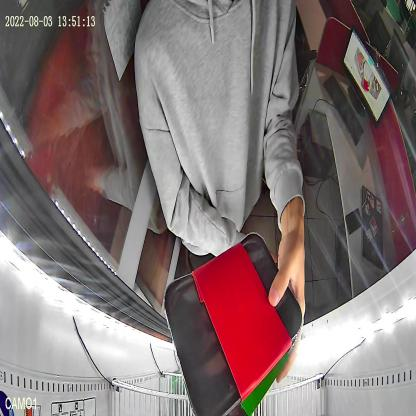green: (226, 336, 299, 416)
red: (163, 232, 303, 416)
